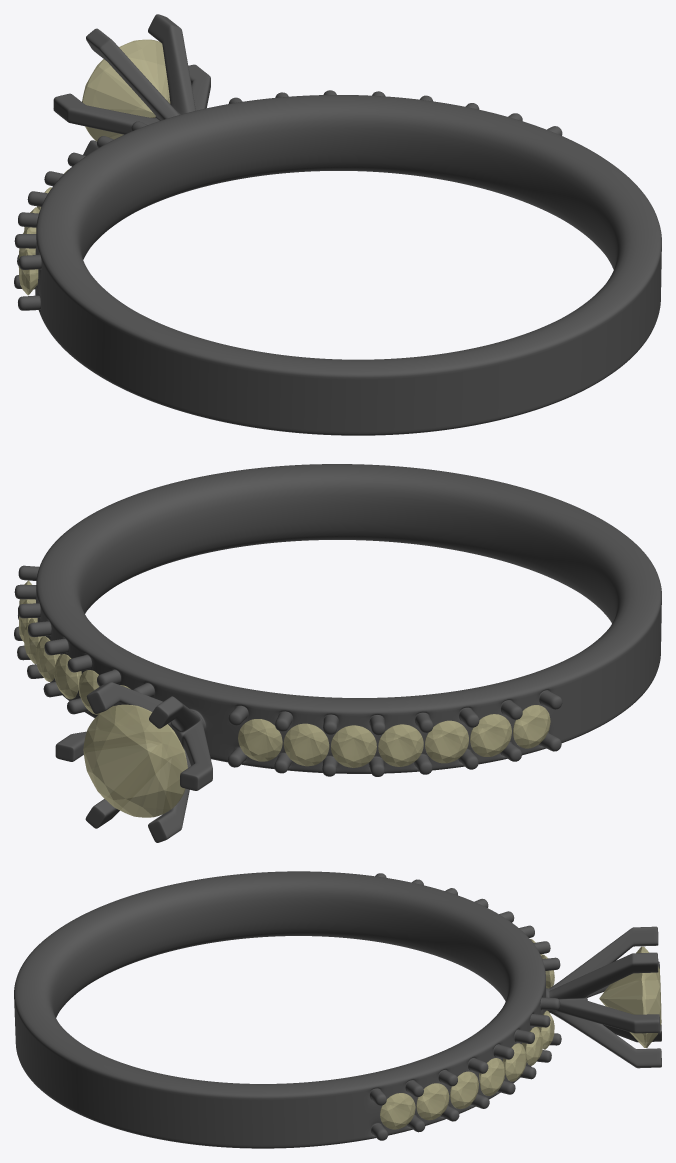
File: ring.fbx
The picture shows the model from 3 angles, top to bottom: view 1: azimuth 30°, elevation 25°; view 2: azimuth 150°, elevation 25°; view 3: azimuth 270°, elevation 25°; orthographic projection. The views are drawn at different scales.
Parts seen in each view (by area): view 1: Round; view 2: Round; view 3: Round.
Part boxes in pixels (x1,y1,x2,y2): Round: [14, 14, 661, 435]; Round: [14, 464, 661, 842]; Round: [14, 871, 661, 1148].
Size of the model in its own units: 0.000358 by 8.61e-05 by 0.000436.
